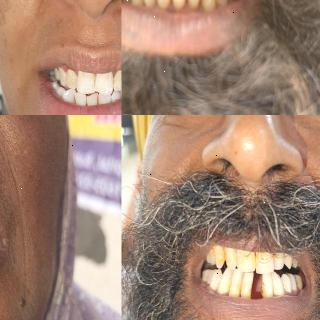maligned: (61, 87, 75, 104), (74, 91, 88, 107), (86, 90, 98, 106), (109, 89, 121, 102)
plaque: (67, 71, 78, 87), (270, 282, 278, 296), (222, 246, 230, 256), (116, 70, 122, 82)
stains: (143, 0, 207, 10), (228, 280, 241, 294), (219, 251, 231, 265), (241, 250, 251, 266), (258, 280, 268, 296), (243, 281, 253, 293), (256, 252, 264, 266), (91, 74, 99, 87), (95, 94, 103, 106), (232, 251, 238, 265), (225, 278, 231, 292), (210, 249, 216, 262), (72, 94, 78, 106), (111, 76, 117, 86), (274, 252, 280, 262), (83, 99, 89, 107)
